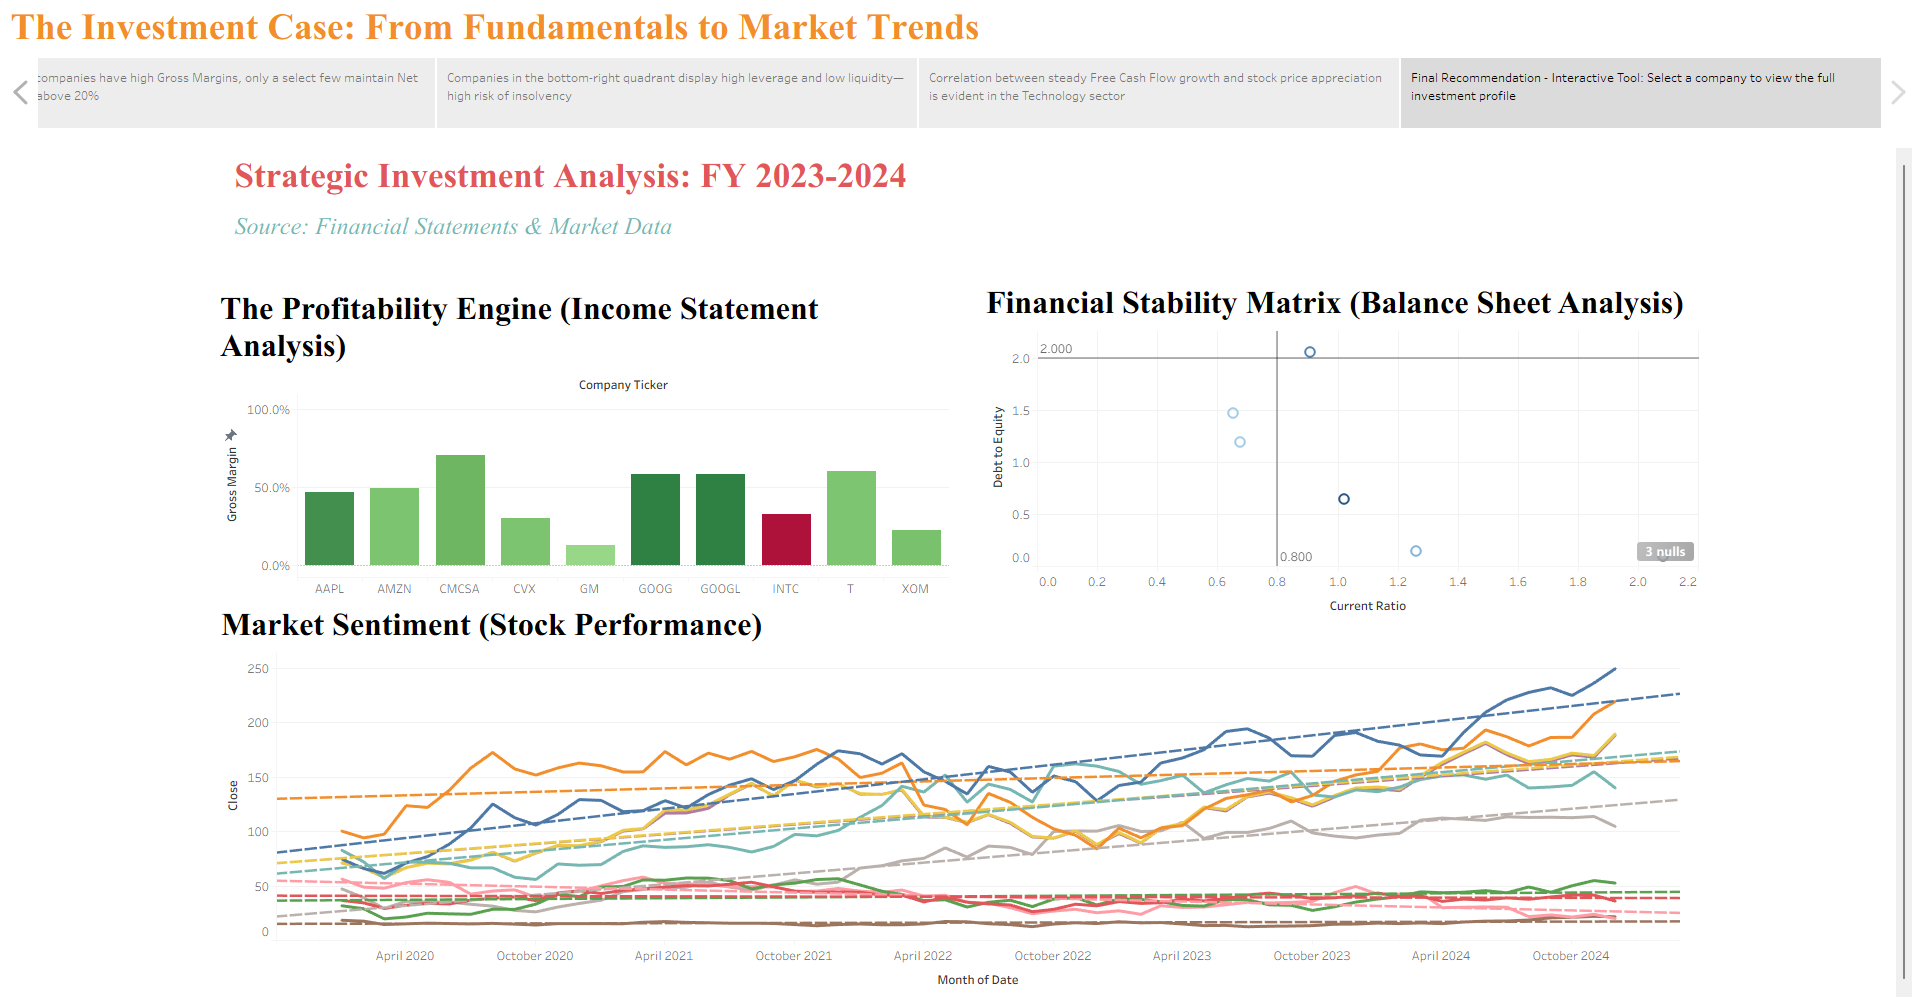

The page's visual inventory and layout, read from the dashboard file:
{"tool":"tableau","page":{"name":"The Executive Dashboard","canvas":[1504,856],"ordinal":0},"visuals":[{"type":"text","box":[33,4,1420,92]},{"type":"worksheet","title":"Risk Assessment (Scatter Plot) Top 10","mark":"Automatic","rows":["Calculation_1963006496798838788"],"cols":["Calculation_1963006496797200386"],"box":[783,132,717,341]},{"type":"worksheet","title":"Profitability Landscape Top 10","mark":"Bar","rows":["Calculation_1963006496797052928"],"cols":["Company Ticker"],"box":[17,138,733,312]},{"type":"worksheet","title":"Market Performance (Dual Axis)","mark":"Automatic","rows":["Close"],"cols":["Date"],"box":[18,454,1463,393]}]}

Visuals, with their boxes on the page's 1504x856 design canvas (x1, y1, x2, y2). These are canvas units, not pixel positions in the 1917x997 screenshot, which may show the page scaled, cropped or inside an application window:
text: rect(33, 4, 1453, 96)
"Risk Assessment (Scatter Plot) Top 10" worksheet: rect(783, 132, 1500, 473)
"Profitability Landscape Top 10" worksheet (Bar marks): rect(17, 138, 750, 450)
"Market Performance (Dual Axis)" worksheet: rect(18, 454, 1481, 847)
